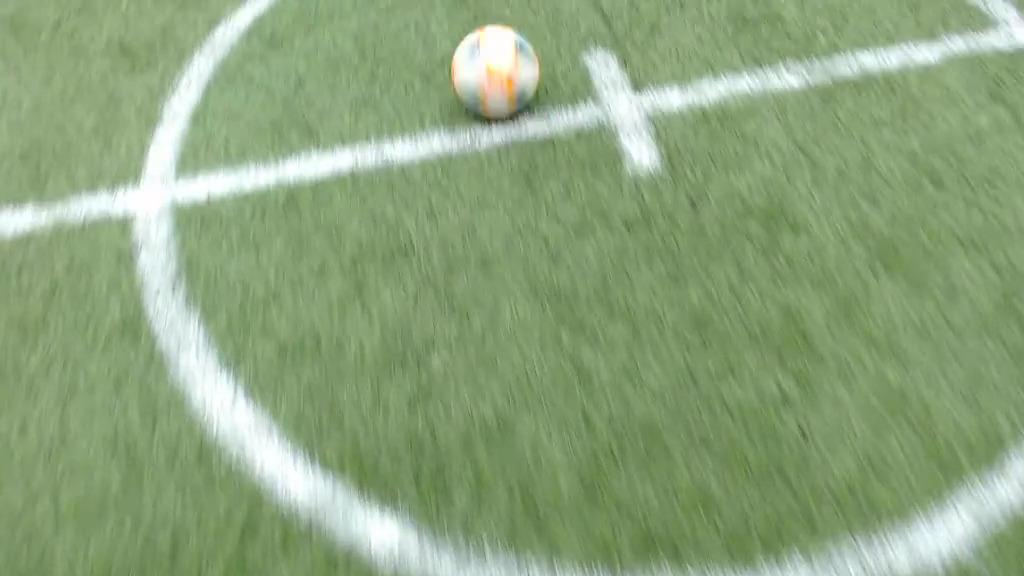ball: (452, 26, 539, 119)
